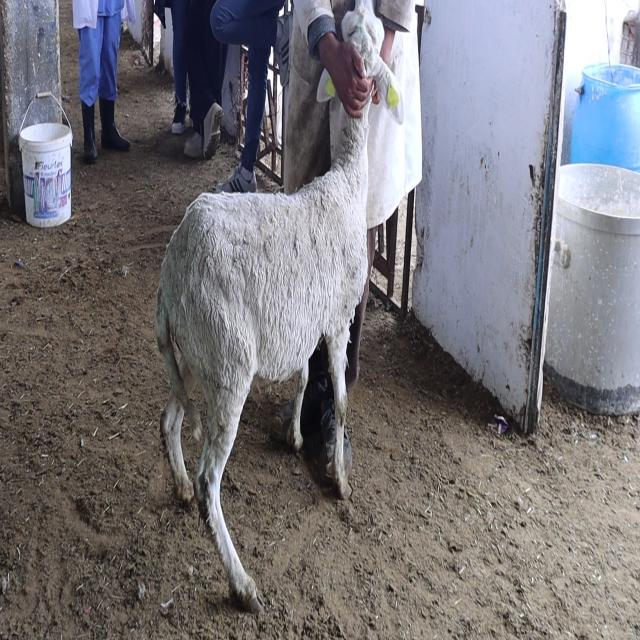Score_3: (155, 4, 402, 612)
